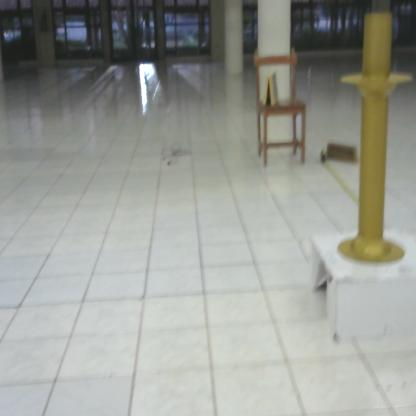pole: (335, 8, 414, 270)
